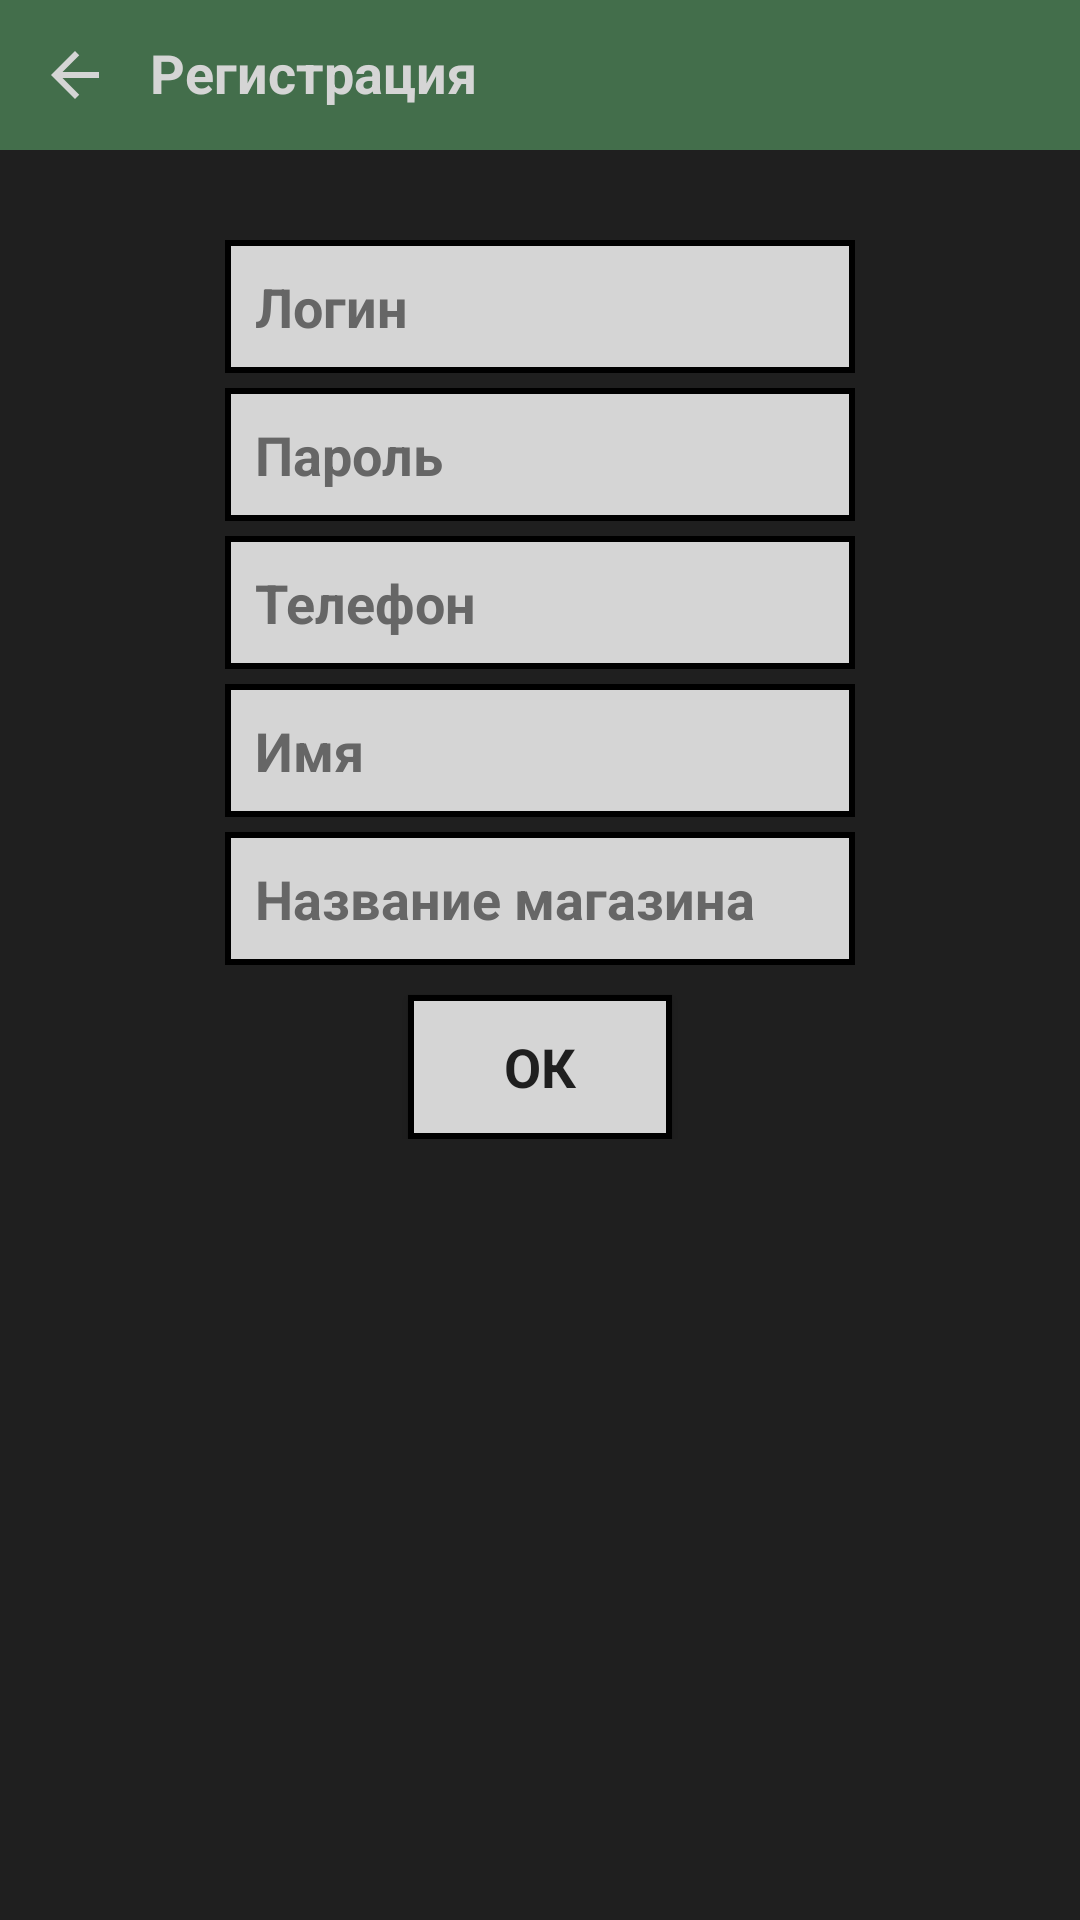

Where to tap for icons on this 1080*1920 app screen, as (x=x, y=y):
arrow back: (x=75, y=75)
